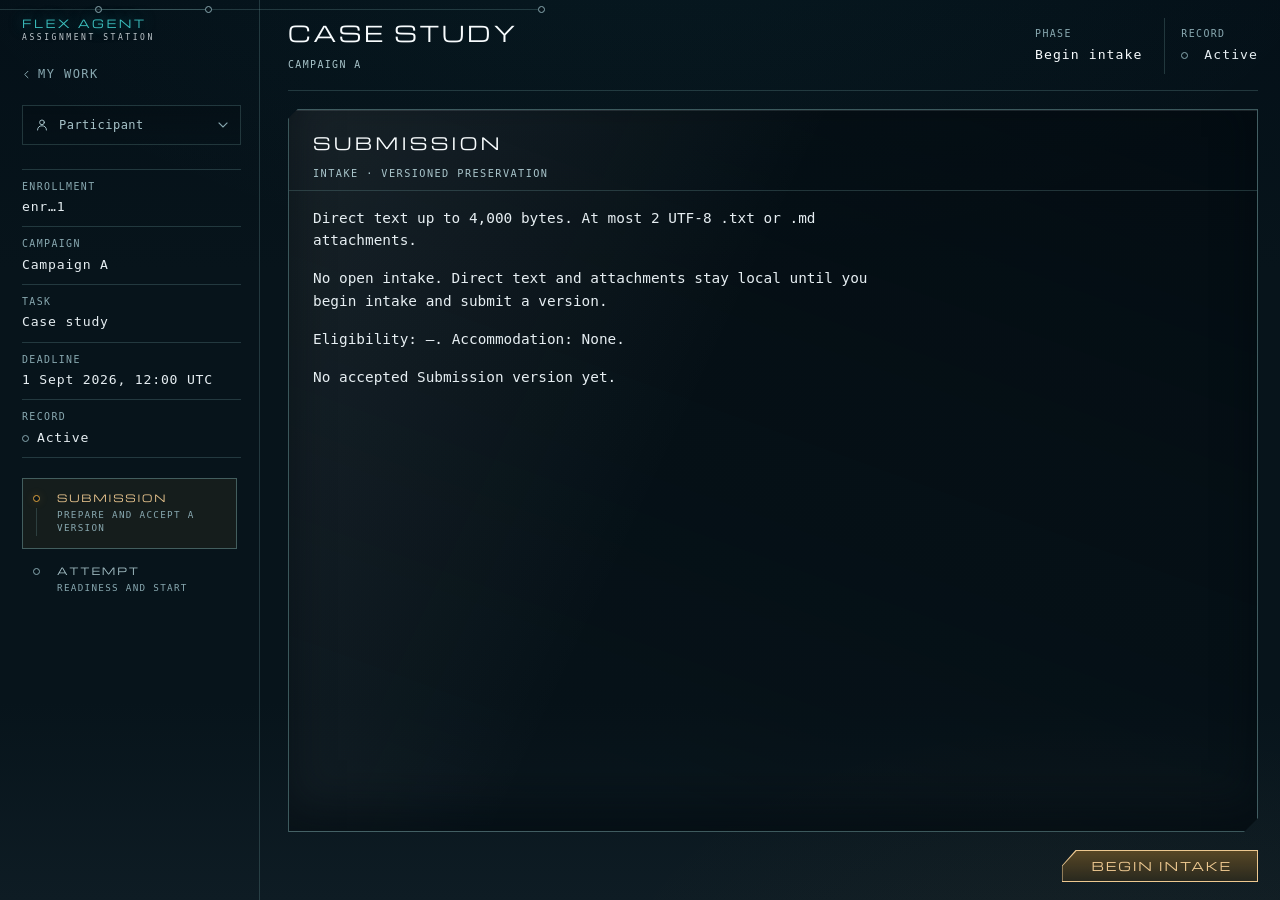
it: ProductionMyWorkDetailPage › finalizes an intake only after confirmation
Click the button "Begin intake" at (1160, 866), box [1062,850,1258,882]
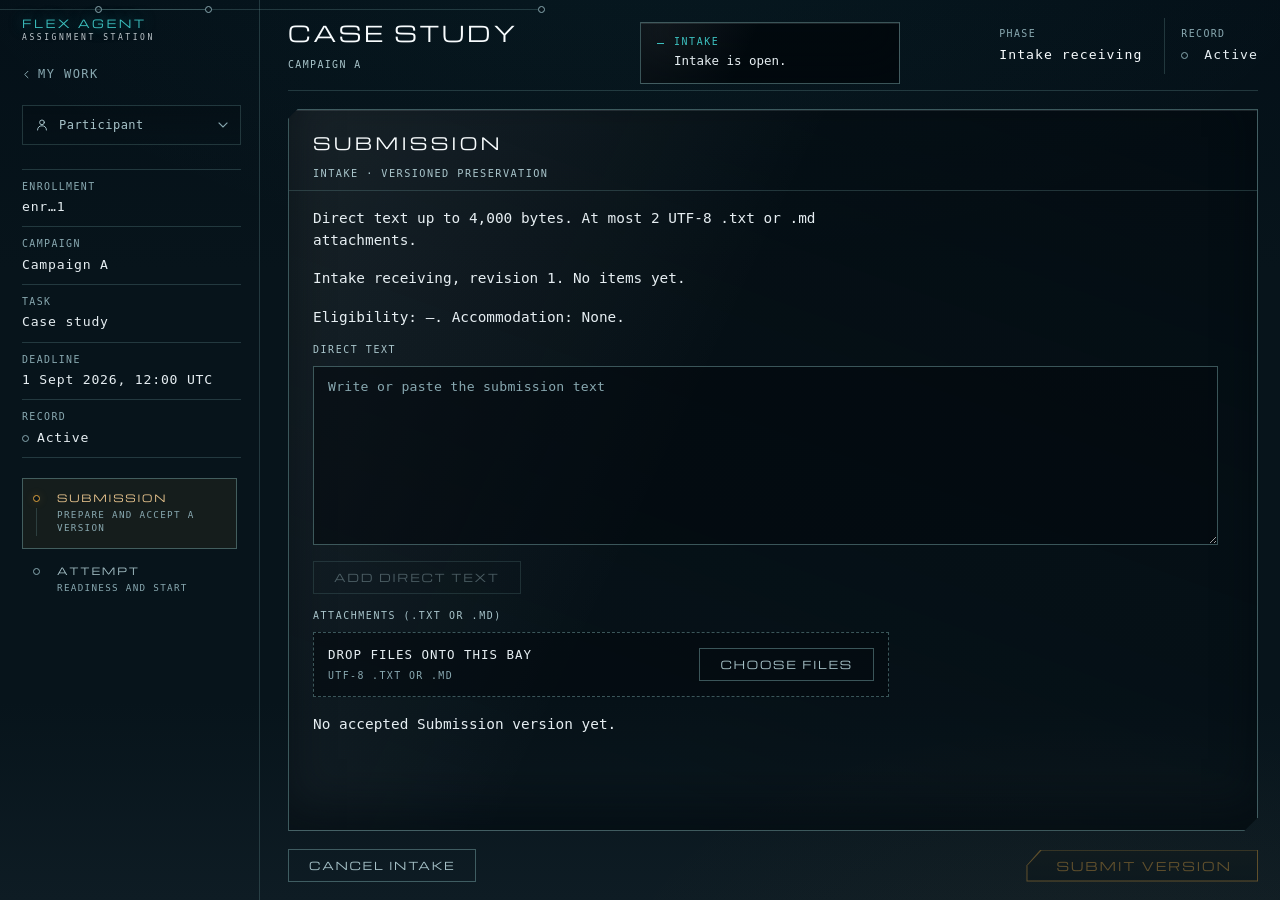
Check: the text "Intake is open." is shown, box [674,53,787,68]
Check: the element named "Assignment status" shows "Intake receiving", box [999,47,1142,62]
Check: the button "Submit version" is disabled, box [1026,850,1258,882]
Type "Evidence paragraph." into the text box labelled "Direct text" at (766, 455), box [313,366,1218,545]
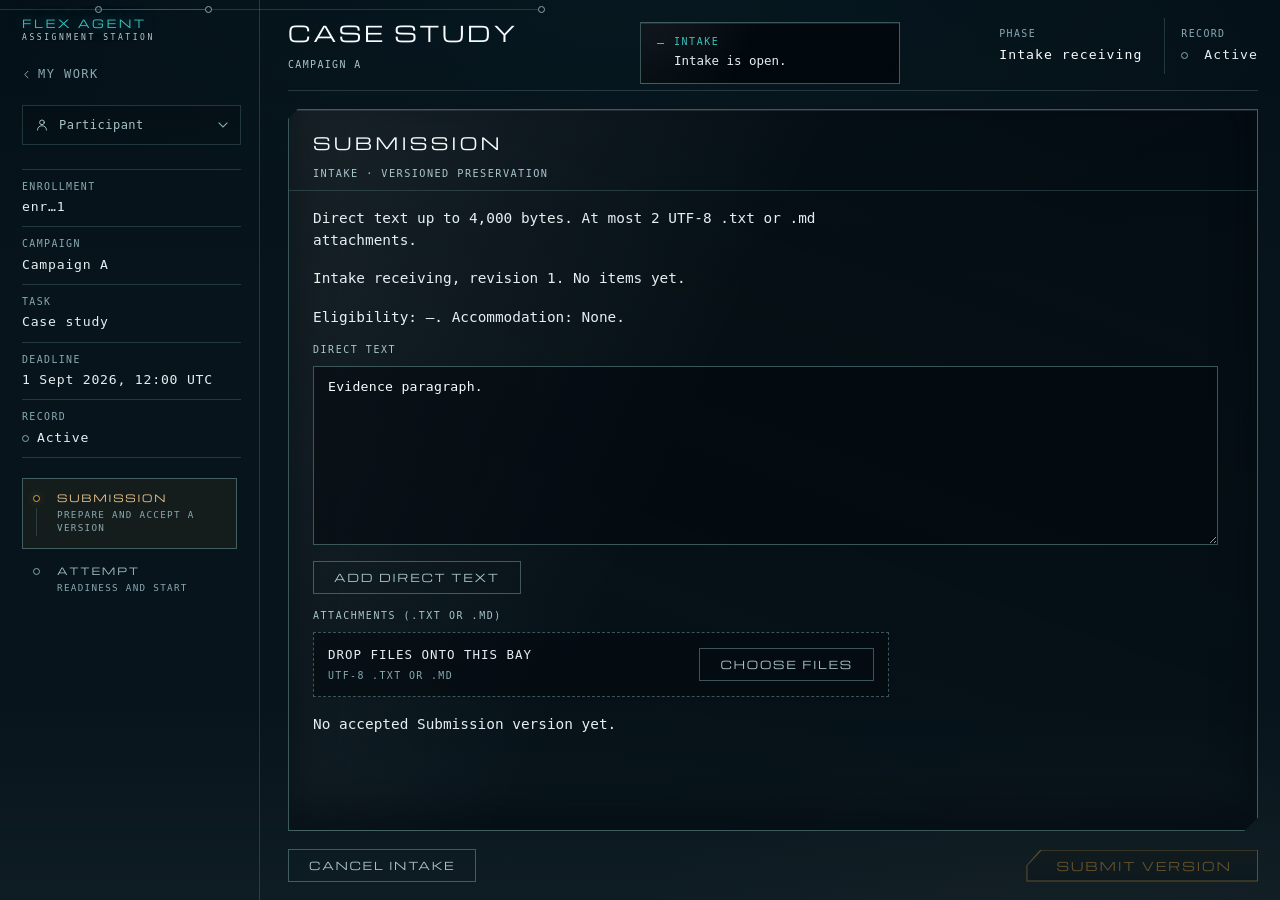
Click the button "Add direct text" at (417, 578), box [313,561,521,594]
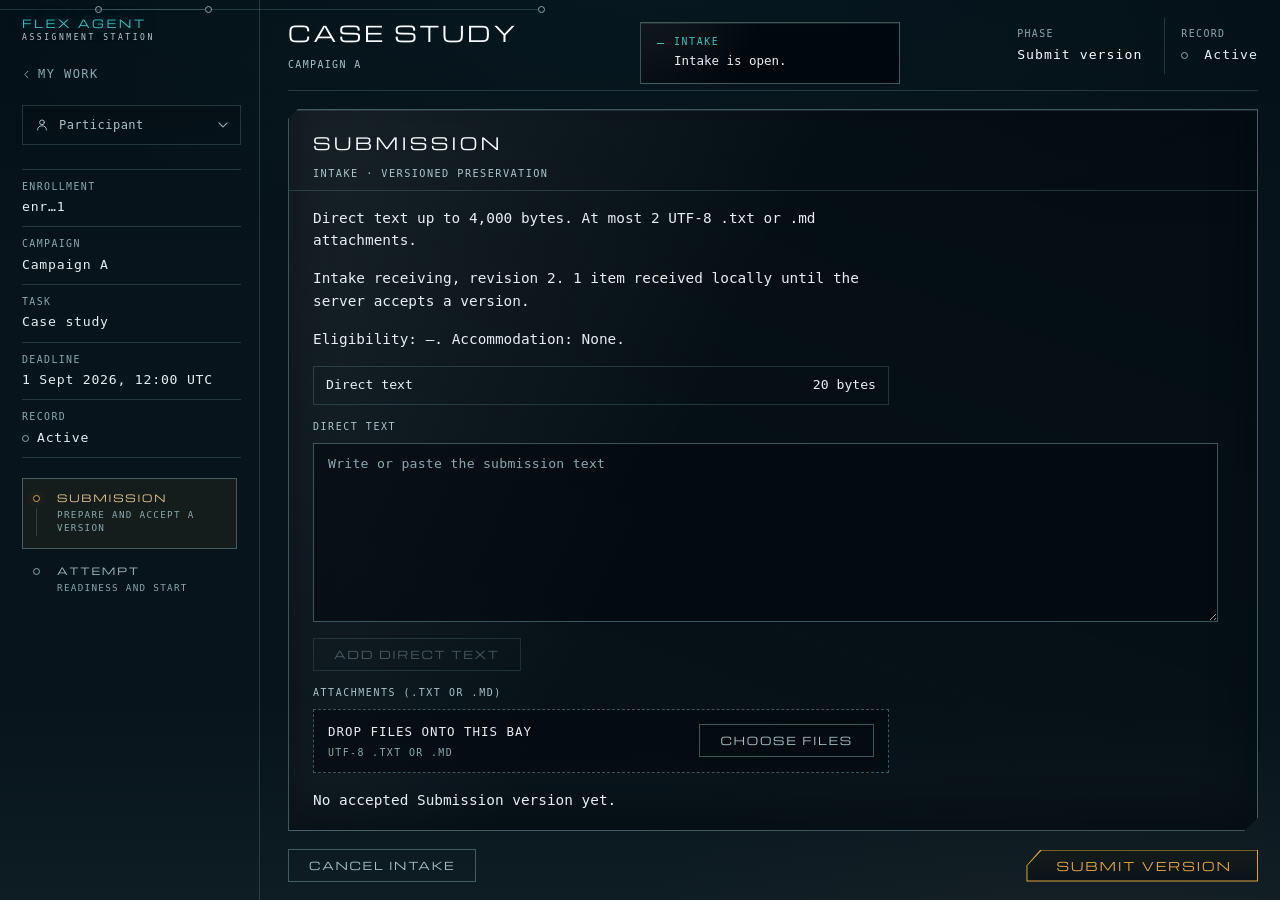
Check: the button "Submit version" is enabled
Check: the element named "Assignment status" shows "Submit version", box [1017,47,1142,62]
Click the button "Submit version" at (1142, 866), box [1026,850,1258,882]
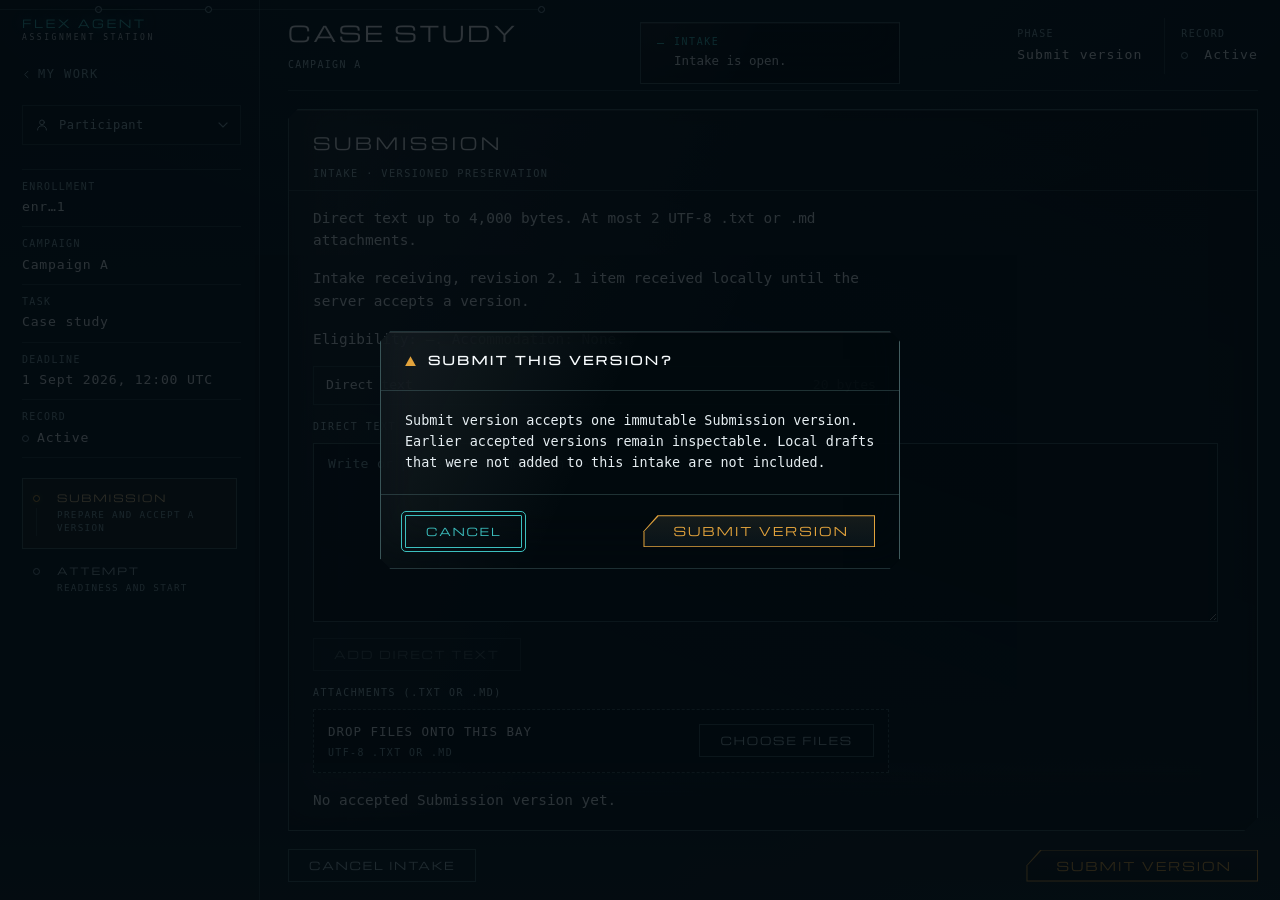
Click the button "Submit version" at (759, 531), box [644,515,875,547]
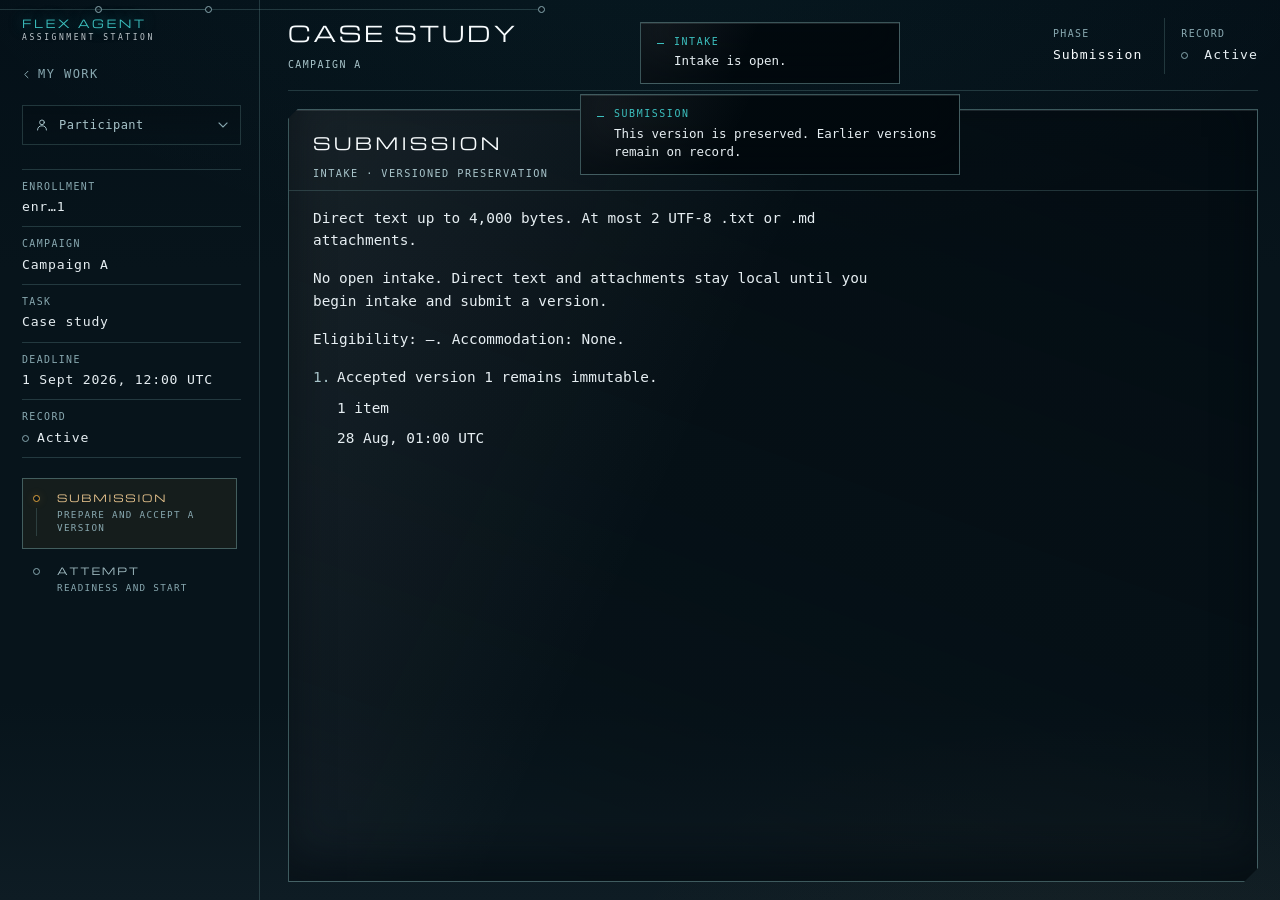
Check: the text "Accepted version 1 remains immutable." is shown, box [337,369,658,385]
Check: the text "1 item" is shown, box [337,400,389,416]
Check: the text "This version is preserved. Earlier versions remain on record." is shown, box [614,126,937,159]
